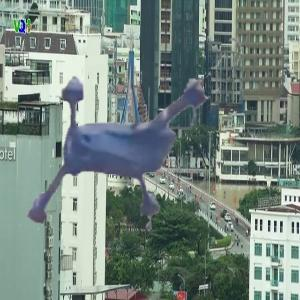drone: (15, 4, 253, 242)
